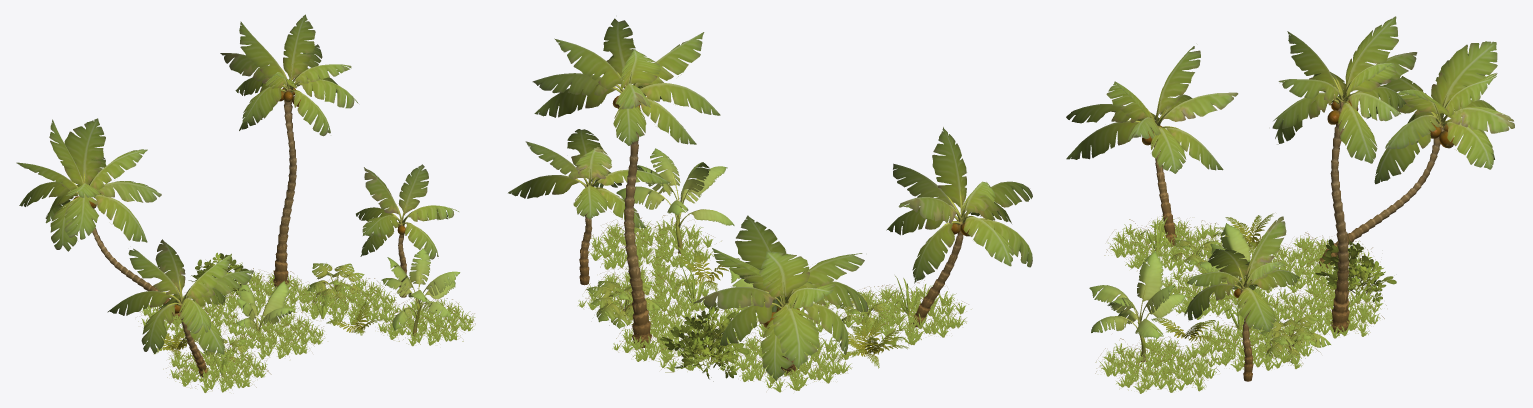
File: nature-tropical-pack.glb
The picture shows the model from 3 angles, left to right: view 1: azimuth 30°, elevation 25°; view 2: azimuth 150°, elevation 25°; view 3: azimuth 270°, elevation 25°; orthographic projection. The views are drawn at different scales.
Visible parts, largest first — view 1: Tree_2, Tree_1, Tree_0; view 2: Tree_2, Tree_1, Tree_0; view 3: Tree_2, Tree_1, Tree_0.
Part boxes in pixels (x1,y1,x2,y2): Tree_2: (16,14,475,392); Tree_1: (145,248,460,365); Tree_0: (69,64,431,377); Tree_2: (508,18,1032,392); Tree_1: (586,148,908,368); Tree_0: (566,66,990,375); Tree_2: (1066,16,1514,393); Tree_1: (1089,213,1330,364); Tree_0: (1116,72,1461,381).
Size of the model in its own units: 12.92 by 8.68 by 11.44.
3 materials, 3 textured.
